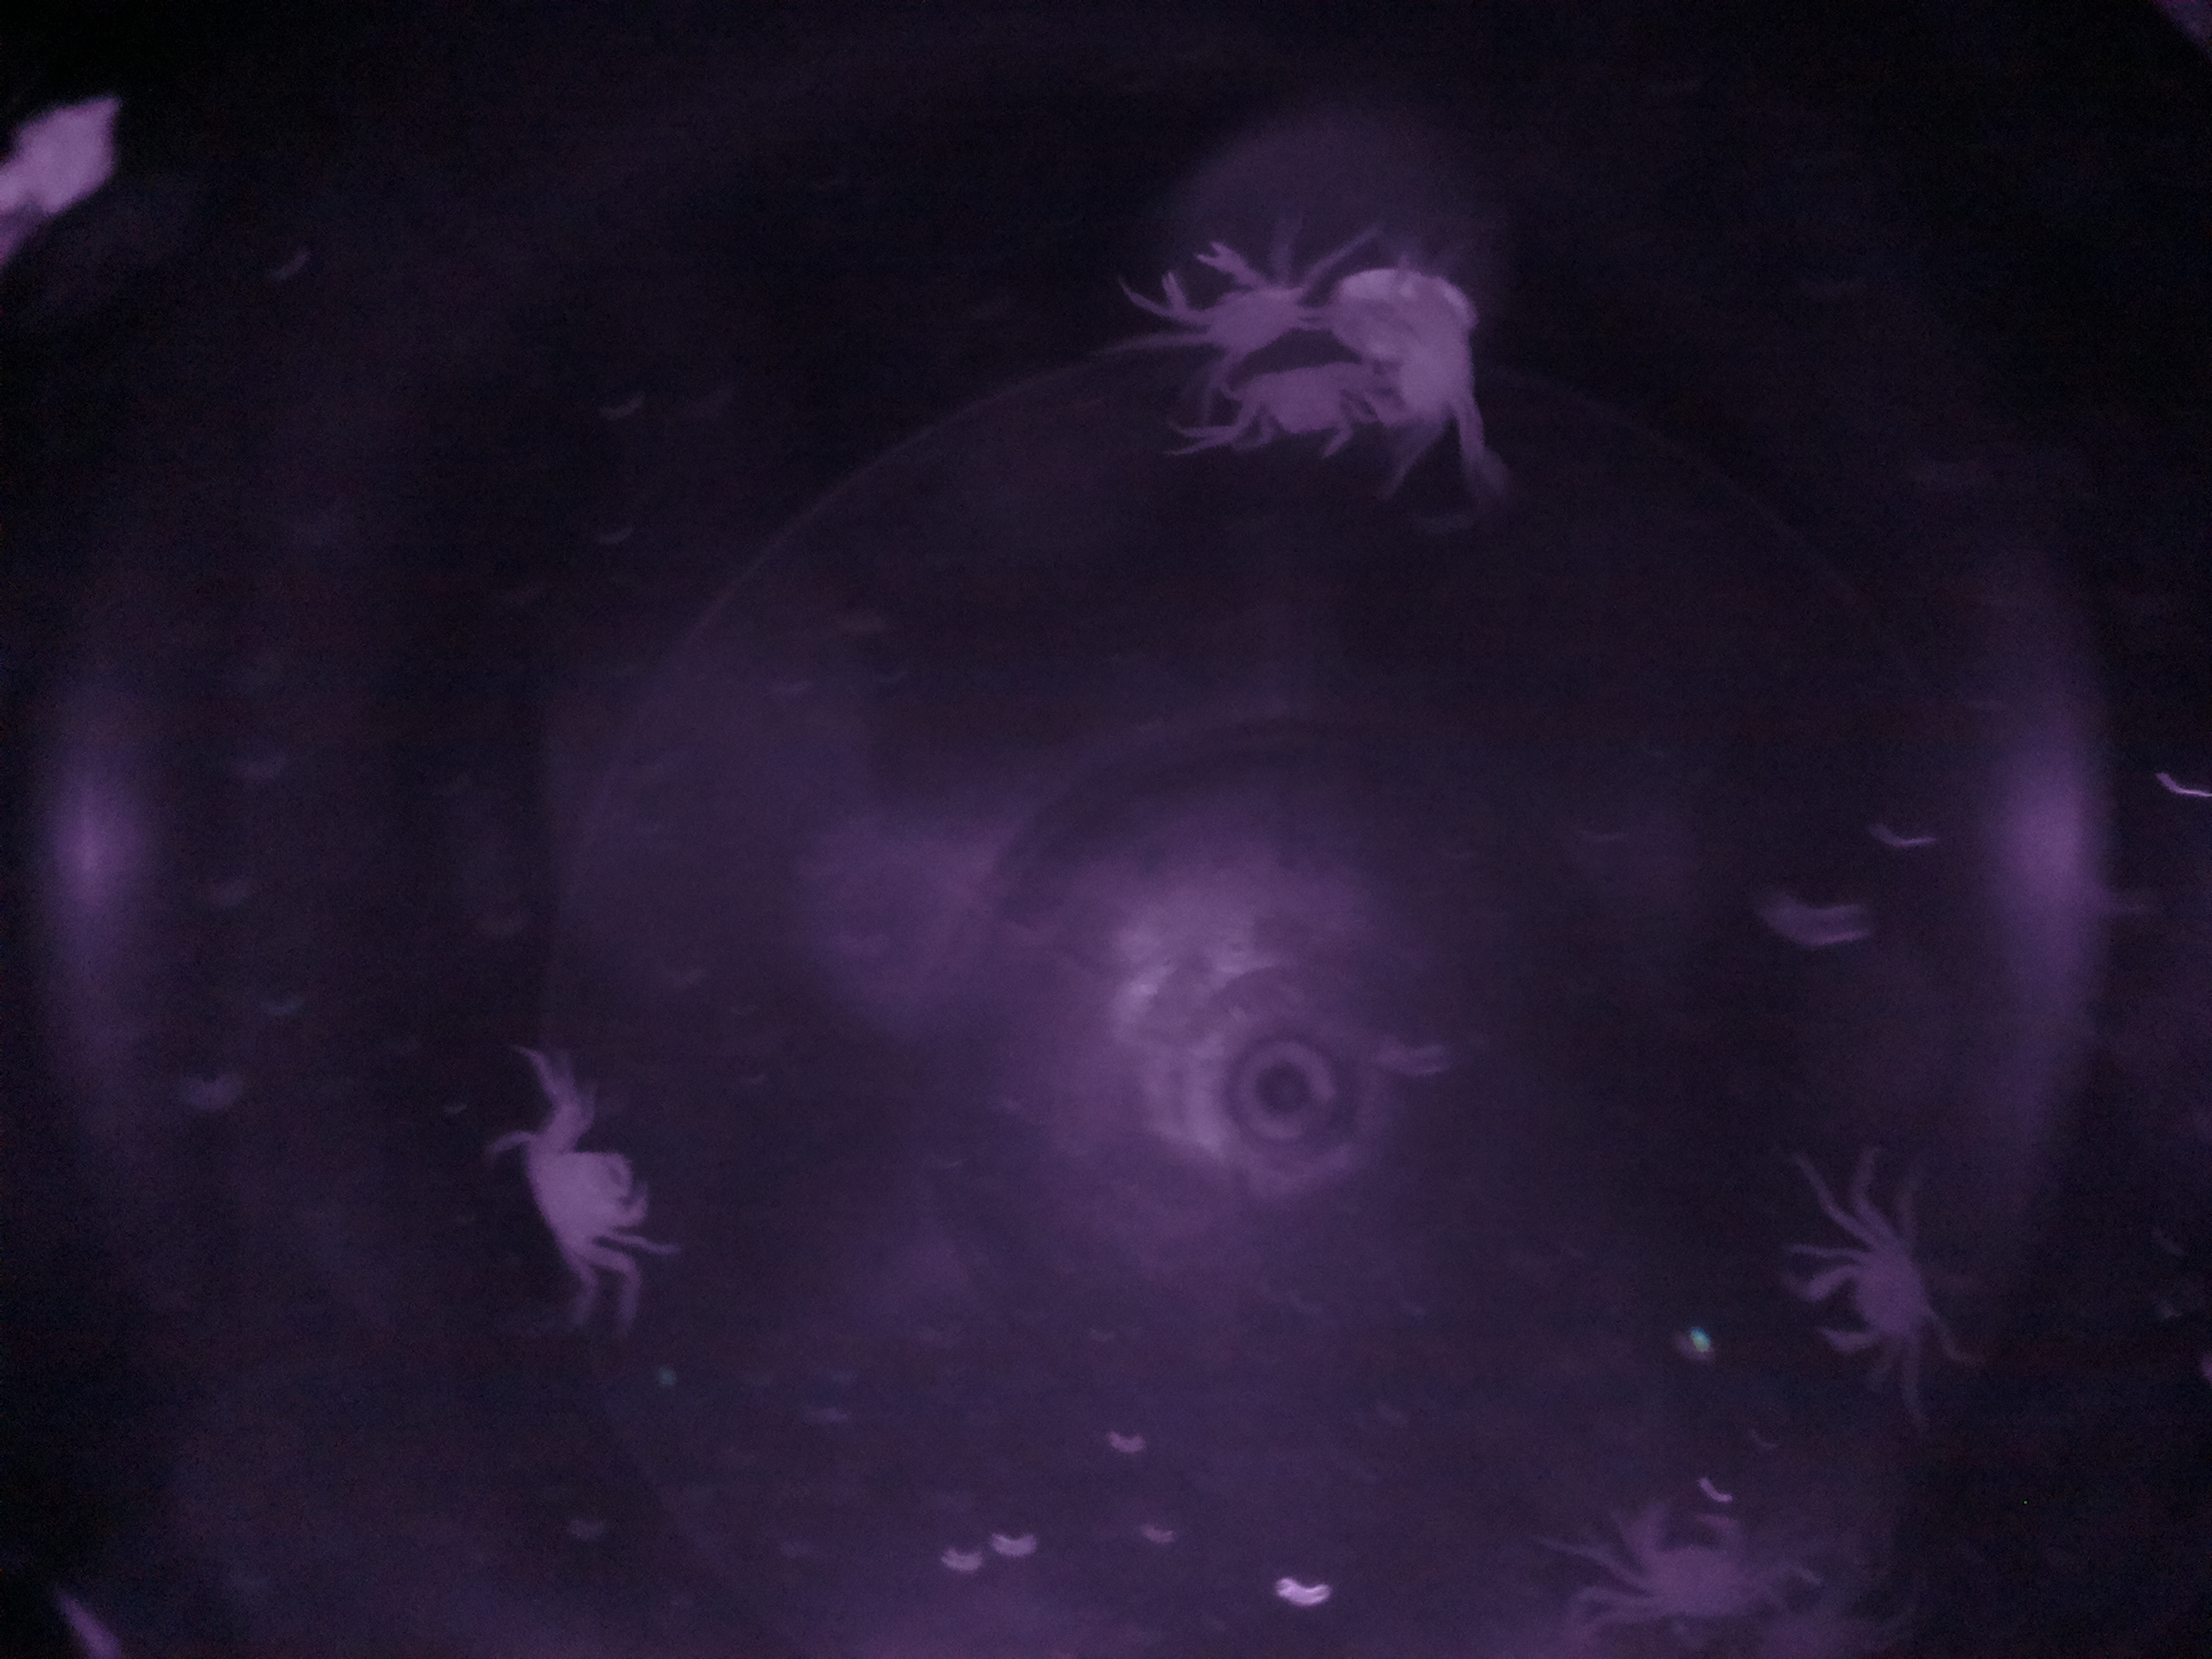Crab: (1787, 1194, 1970, 1422)
